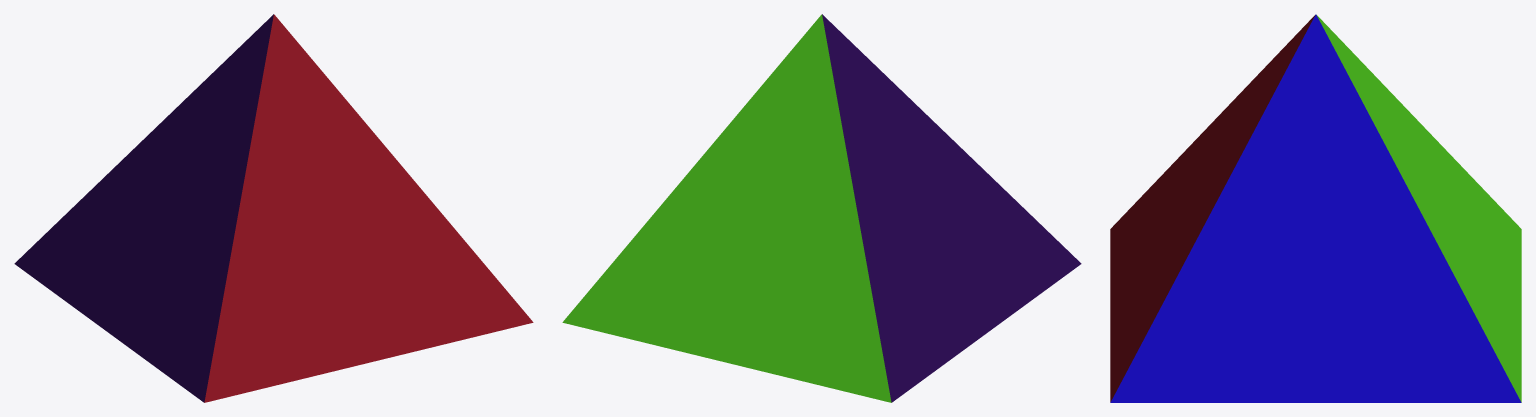
Rendered from Meshtools_03.fbx.
The picture shows the model from 3 angles, left to right: view 1: azimuth 30°, elevation 25°; view 2: azimuth 150°, elevation 25°; view 3: azimuth 270°, elevation 25°; orthographic projection. The views are drawn at different scales.
Visible parts, largest first — view 1: Pyramid002; view 2: Pyramid002; view 3: Pyramid002.
Part boxes in pixels (x1,y1,x2,y2): Pyramid002: (14, 14, 533, 402); Pyramid002: (562, 14, 1081, 402); Pyramid002: (1110, 14, 1521, 402).
Size of the model in its own units: 47.1 by 47.1 by 38.16.
